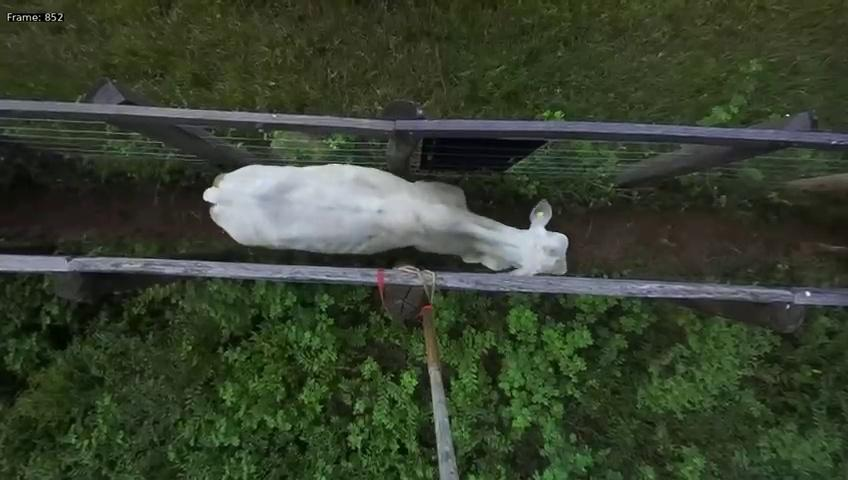cattle: (201, 137, 570, 272)
